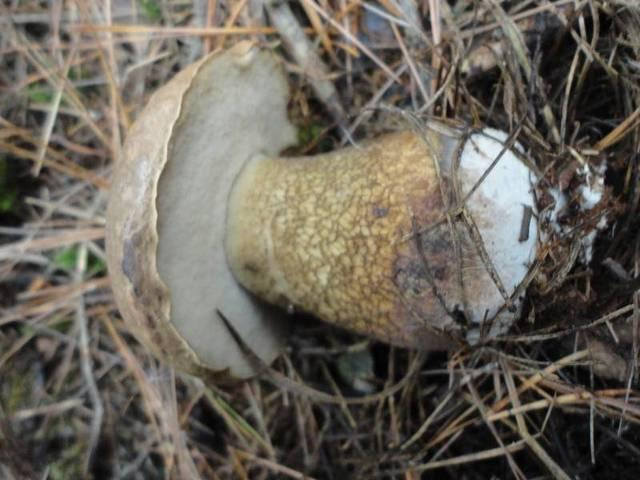Non-edible Mushroom: (90, 10, 590, 365)
